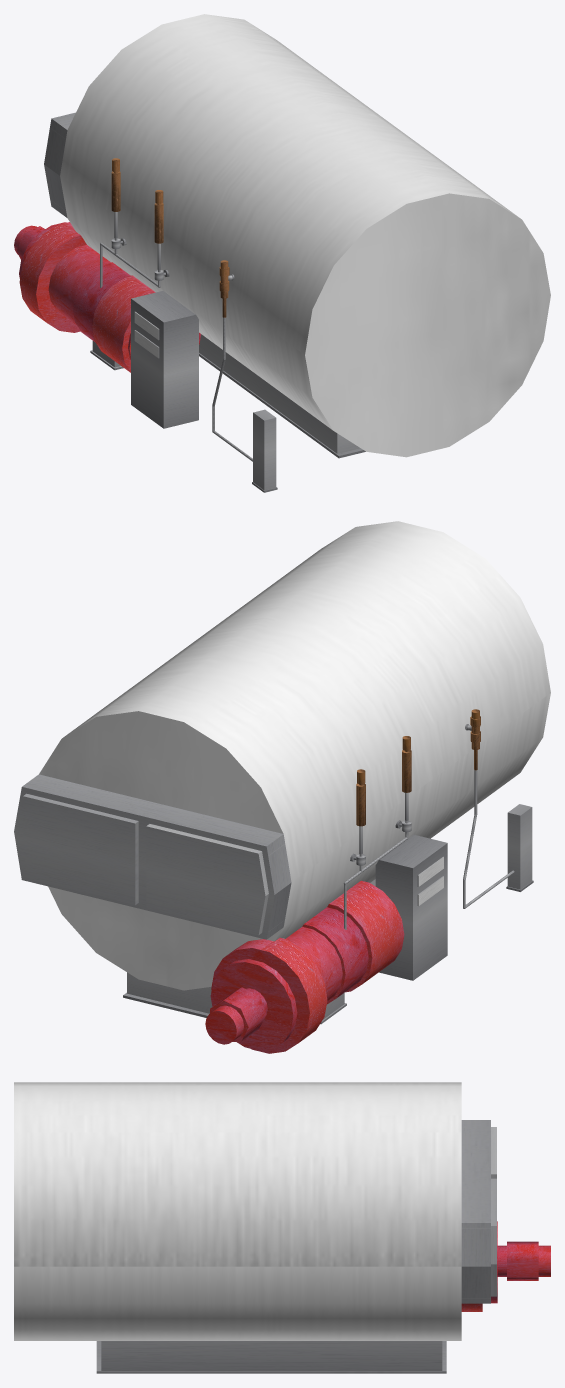
Rendered from BoilerRoom_Boiler_w_Textures.fbx.
3 renders of one model, top to bottom at view 1: azimuth 30°, elevation 25°; view 2: azimuth 150°, elevation 25°; view 3: azimuth 270°, elevation 25°, orthographic. The views are drawn at different scales.
Visible parts, largest first — view 1: Boiler; view 2: Boiler; view 3: Boiler.
Boxes of the visible parts, left/top/right/bottom form: Boiler: left=14, top=14, right=550, bottom=492; Boiler: left=14, top=521, right=550, bottom=1053; Boiler: left=14, top=1082, right=550, bottom=1373.
Bounding box in the file's own units: 143 × 141 × 265.
